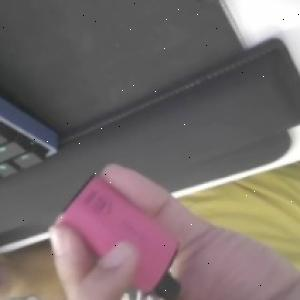Blume-E-Ciggirate: (57, 174, 184, 300)
